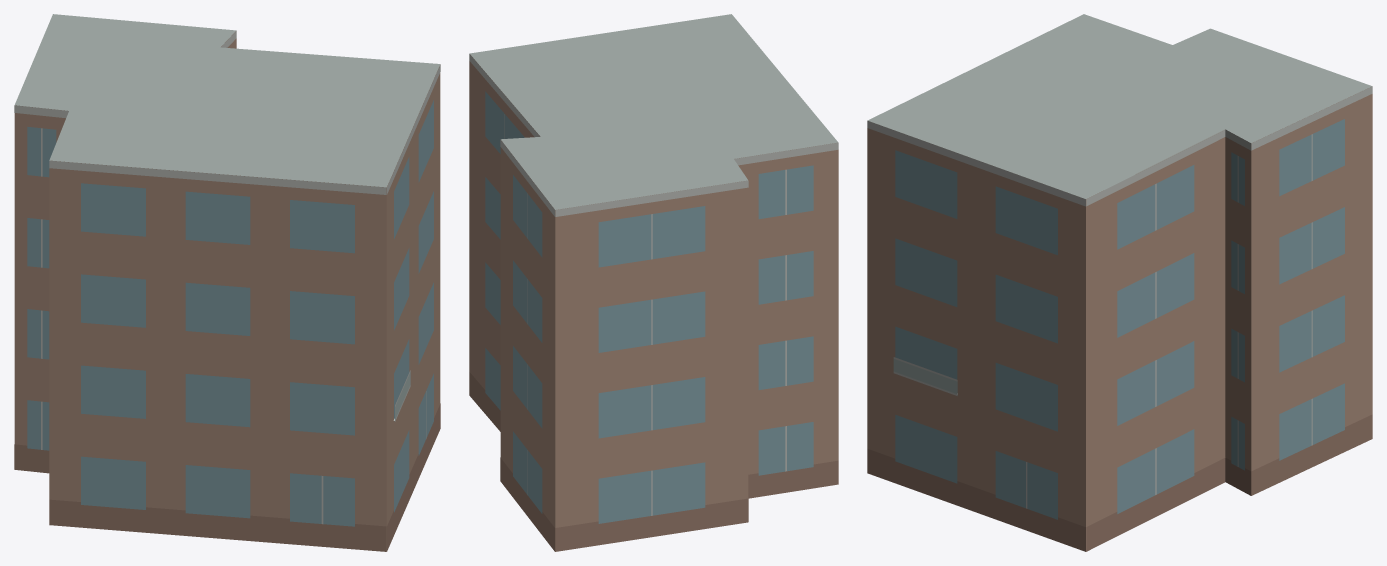
File: survey-upis-32783940.glb
3 views of the same model, side by side, from view 1: azimuth 30°, elevation 25°; view 2: azimuth 150°, elevation 25°; view 3: azimuth 270°, elevation 25° (orthographic). The views are drawn at different scales.
Parts seen in each view (by area): view 1: survey-upis-32783940.tmp; view 2: survey-upis-32783940.tmp; view 3: survey-upis-32783940.tmp.
Part boxes in pixels (x1,y1,x2,y2): survey-upis-32783940.tmp: (14,14,440,551); survey-upis-32783940.tmp: (469,14,838,551); survey-upis-32783940.tmp: (867,14,1372,551).
Size of the model in its own units: 13.07 by 11.6 by 15.07.
